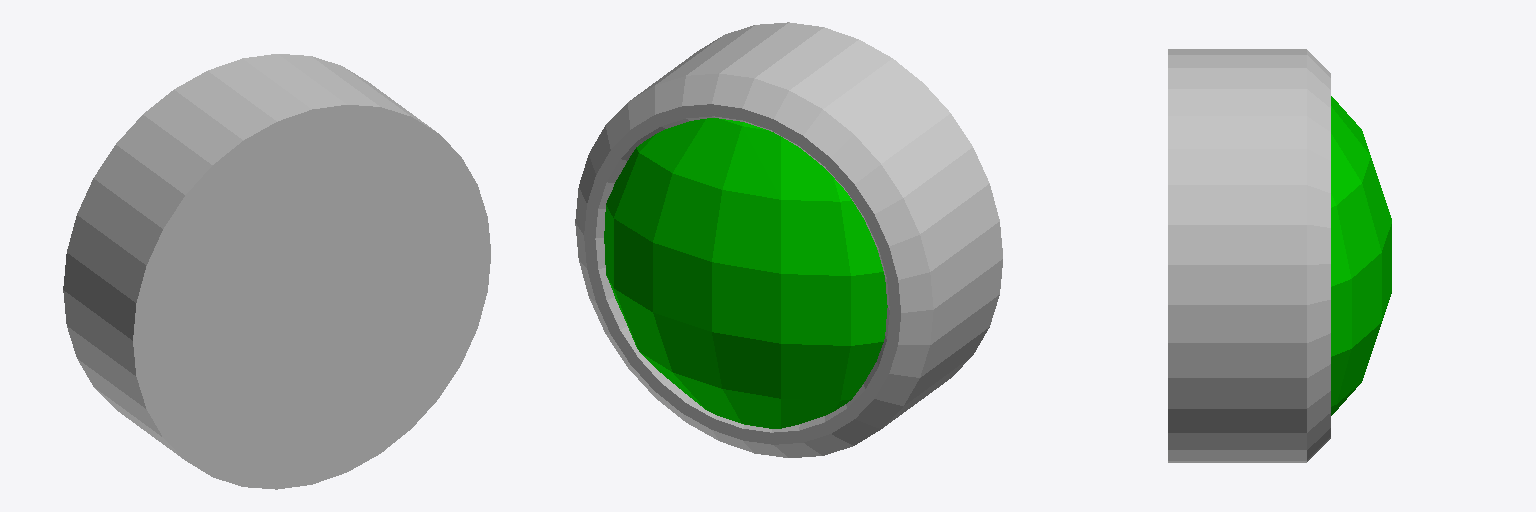
Rendered from Light.obj.
3 renders of one model, left to right at view 1: azimuth 30°, elevation 25°; view 2: azimuth 150°, elevation 25°; view 3: azimuth 270°, elevation 25°, orthographic.
Visible parts, largest first — view 1: Sphere; view 2: Sphere; view 3: Sphere.
Boxes of the visible parts, x1=… form: Sphere: x1=63, y1=54, x2=490, y2=489; Sphere: x1=575, y1=22, x2=1002, y2=457; Sphere: x1=1168, y1=49, x2=1391, y2=462.
Bounding box in the file's own units: 0.0266 × 0.0266 × 0.0144.